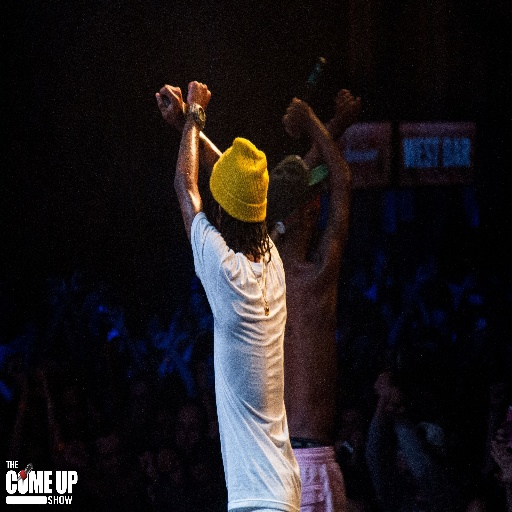hand: (152, 75, 188, 126), (282, 97, 312, 138), (336, 88, 362, 132), (187, 78, 212, 116), (375, 389, 402, 421), (156, 447, 180, 472), (139, 449, 155, 480), (374, 370, 390, 396), (33, 371, 48, 398), (152, 333, 172, 353), (18, 367, 33, 393)
